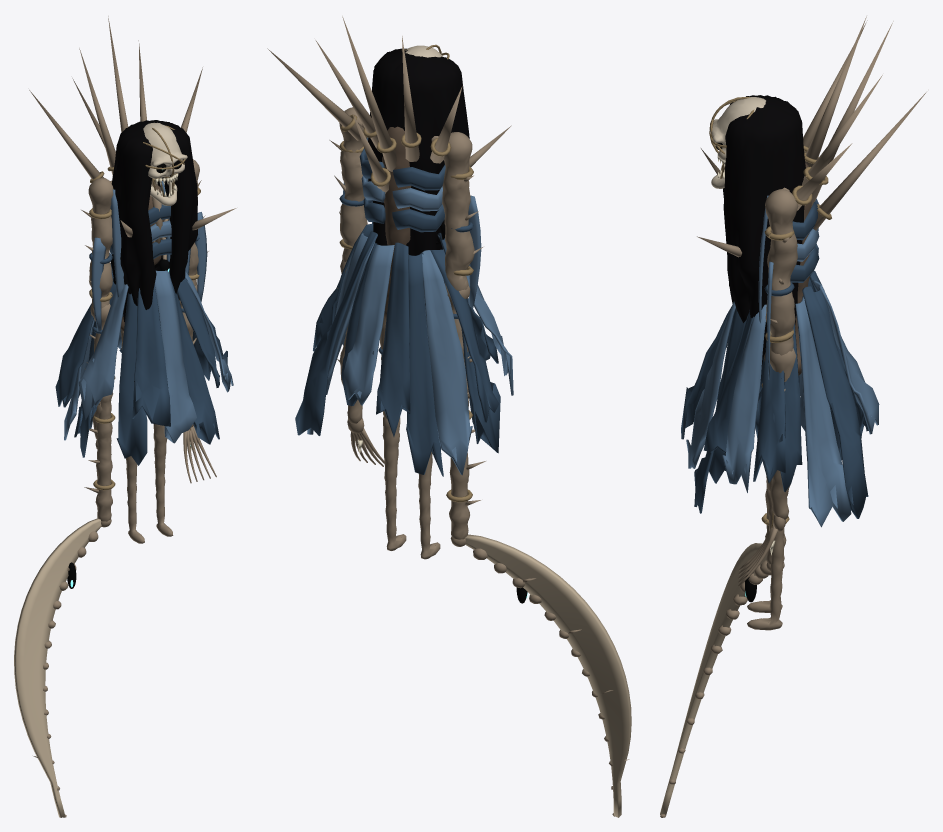
File: marionette.glb
3 views of the same model, side by side, from view 1: azimuth 30°, elevation 25°; view 2: azimuth 150°, elevation 25°; view 3: azimuth 270°, elevation 25° (orthographic). The views are drawn at different scales.
Visible parts, largest first — view 1: P_chest, P_handR, P_hair, P_shR, P_neck, P_kneeL, P_shL, P_kneeR, P_handL, P_elR, P_jaw; view 2: P_chest, P_handR, P_hair, P_shR, P_shL, P_kneeL, P_kneeR, P_handL; view 3: P_chest, P_hair, P_shL, P_handR, P_kneeL, P_neck, P_elL, P_handL.
Boxes of the visible parts, x1,y1,x2,y2 form: P_chest: (29,16,236,465); P_handR: (14,368,115,817); P_hair: (111,120,197,322); P_shR: (81,178,113,331); P_neck: (143,122,187,185); P_kneeL: (153,424,173,536); P_shL: (188,159,208,302); P_kneeR: (126,456,144,543); P_handL: (183,424,216,483); P_elR: (86,304,110,438); P_jaw: (150,176,177,205); P_chest: (267,16,513,476); P_handR: (446,350,631,817); P_hair: (367,48,469,282); P_shR: (442,132,482,307); P_shL: (329,107,367,261); P_kneeL: (382,416,406,550); P_kneeR: (418,452,440,559); P_handL: (347,418,384,466); P_chest: (681,16,926,527); P_hair: (723,95,805,366); P_shL: (764,189,798,379); P_handR: (660,383,789,817); P_kneeL: (747,488,784,630); P_neck: (709,96,765,167); P_elL: (770,347,796,555); P_handL: (738,515,785,586).
Bounding box in the file's own units: 1.73 × 4.75 × 1.31.
